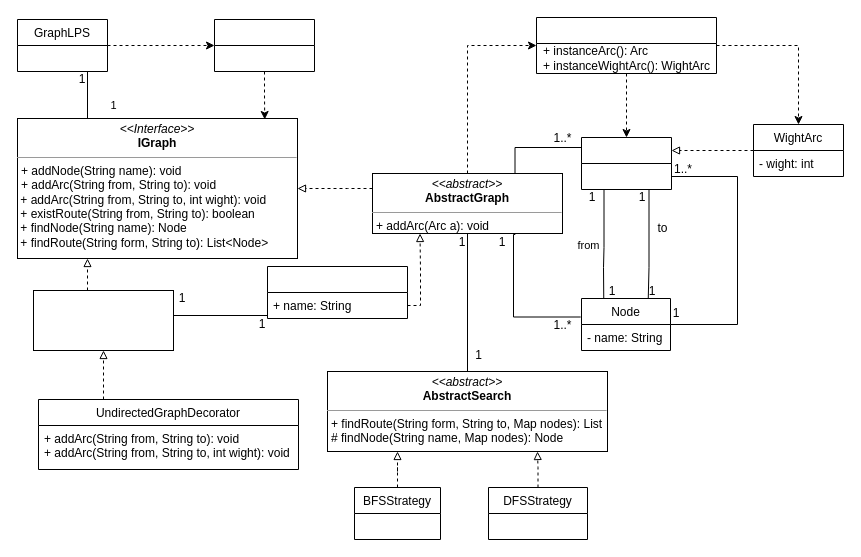
This 861x557 diagram has some shape labels left out. Each missing label, with the box of its shape:
<<abstract>> GraphDecorator: (32, 290, 174, 350)
Arc: (580, 136, 672, 190)
ArcProvider: (536, 16, 716, 74)
GraphFactory: (214, 18, 314, 72)
SimpleGraph: (266, 266, 408, 318)
